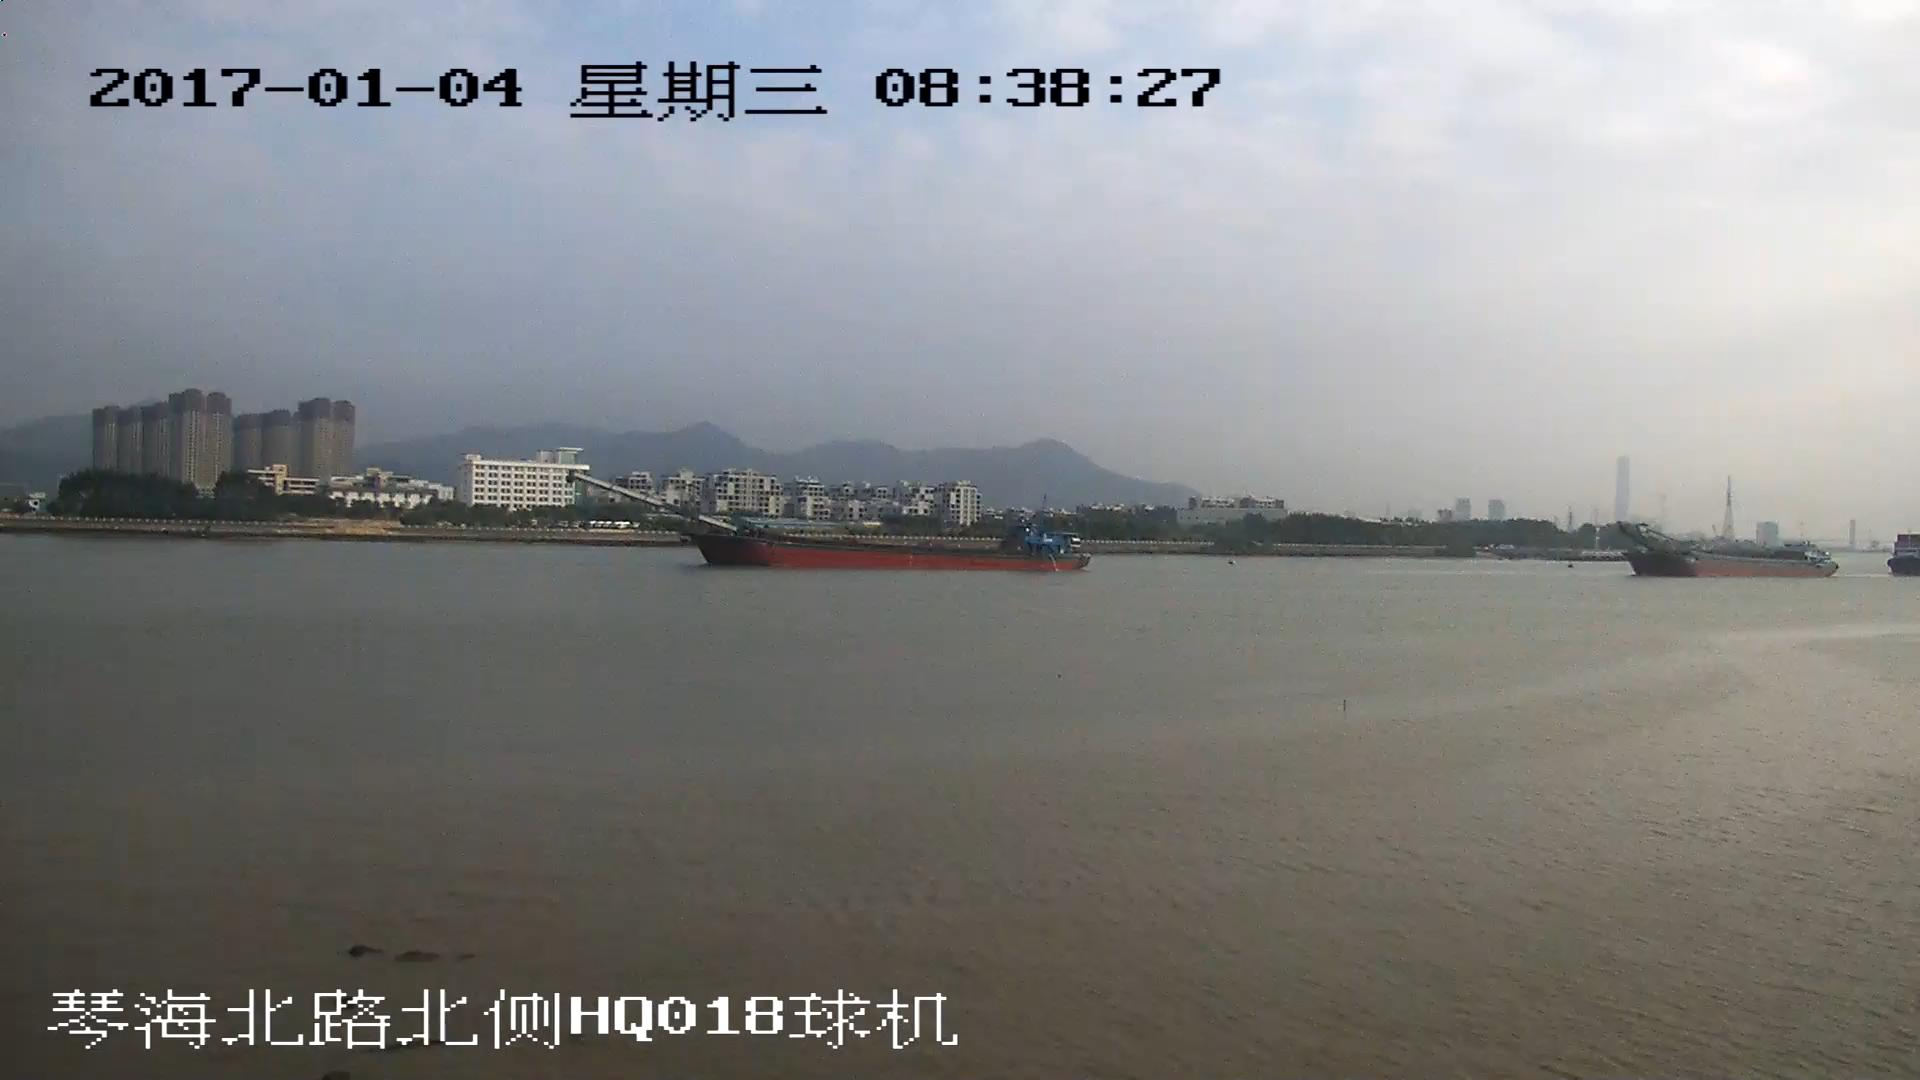bulk cargo carrier: (574, 473, 1087, 573), (1624, 520, 1839, 575)
